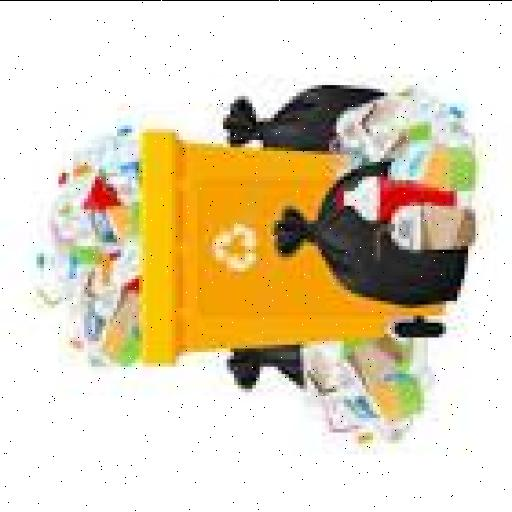poubelle_pleine: (34, 68, 452, 408)
